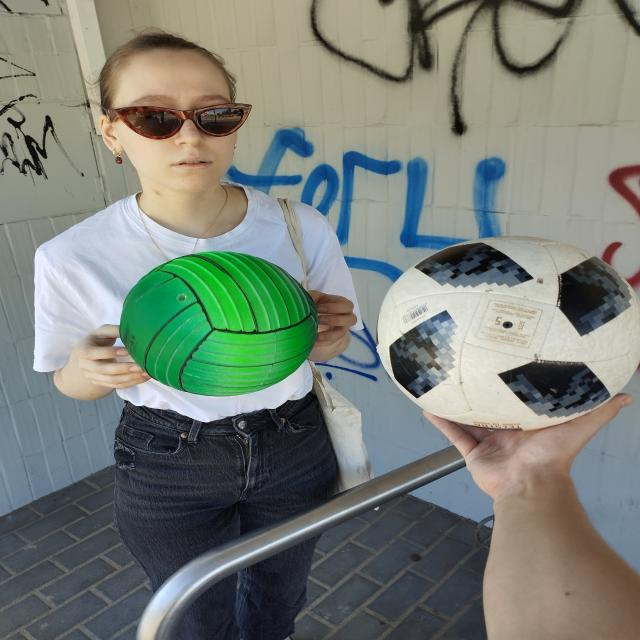nozna: (376, 235, 640, 431)
zielona: (120, 250, 317, 397)
